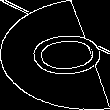O_E: (7, 29, 103, 81)
